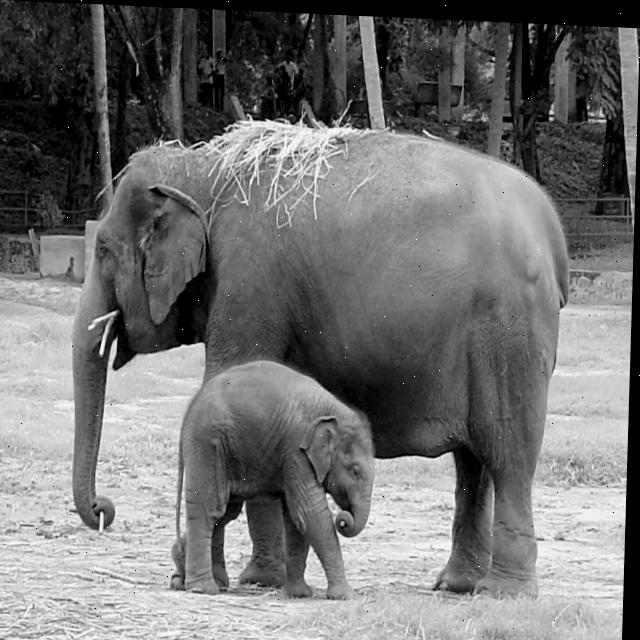Elephant: (64, 114, 574, 604), (168, 355, 378, 602)
